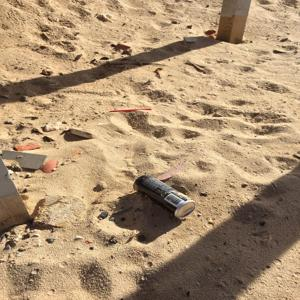metal: (128, 170, 206, 232)
plastic: (102, 103, 165, 118)
